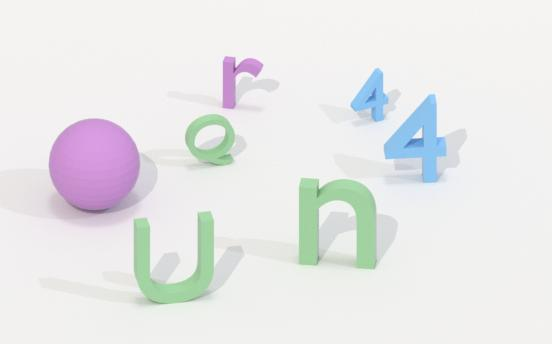4: (382, 88, 452, 186), (350, 64, 389, 125)
R: (220, 52, 265, 112)
cau: (46, 116, 144, 217)
n: (295, 170, 383, 274)
q: (183, 108, 239, 175)
u: (127, 206, 223, 310)
